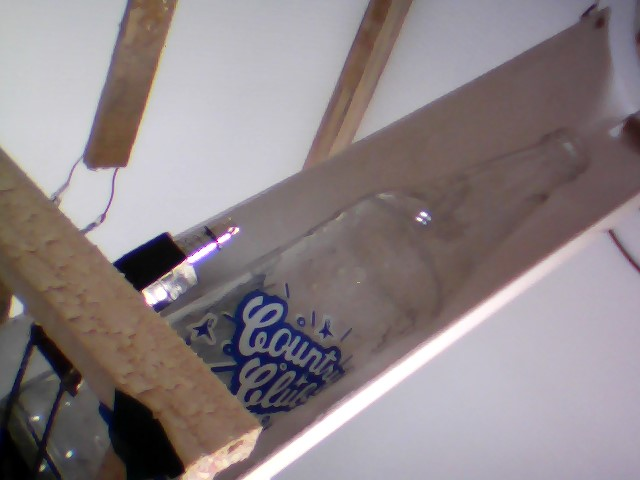vidrio: (170, 121, 599, 434)
